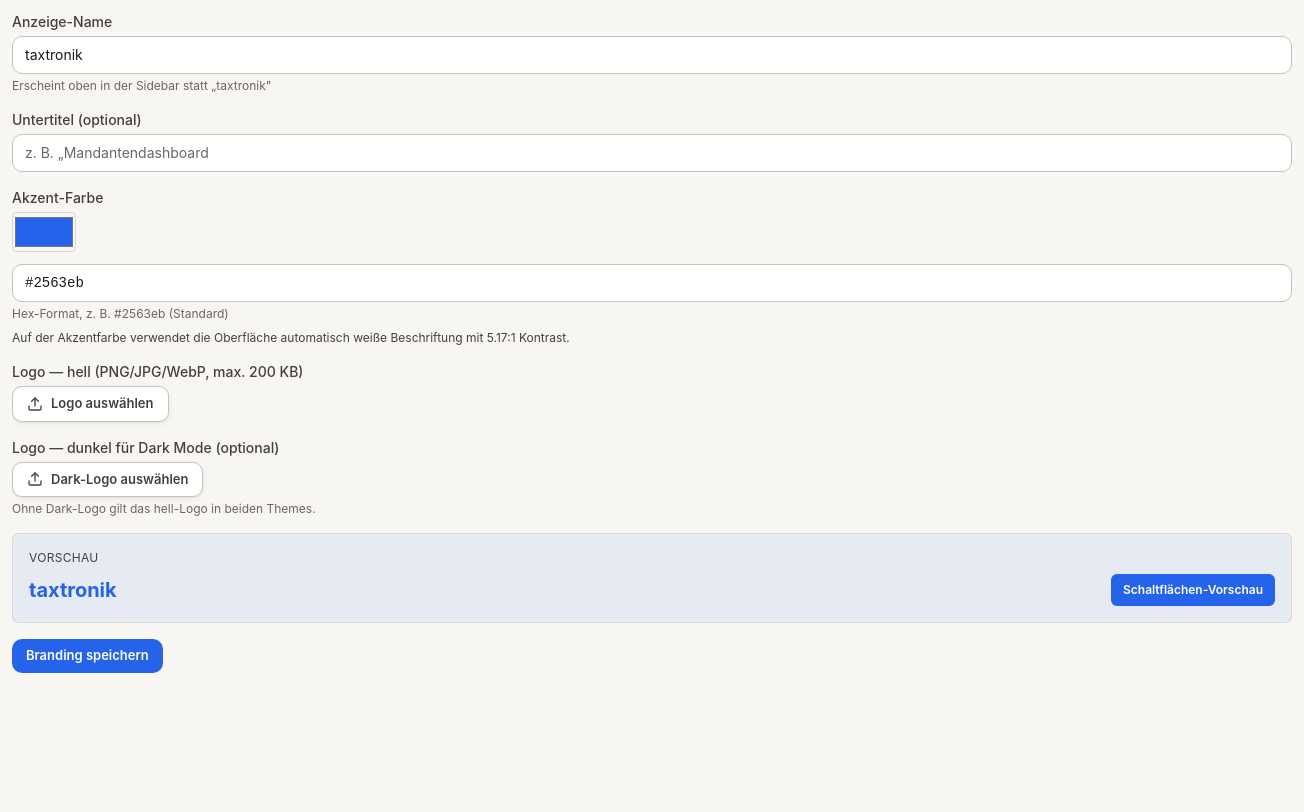
Barrierefreiheit der Branding-Einstellungen › beschriftet beide Farbeingaben und erläutert die automatische Kontrastwahl
Expected: the message shows "automatisch weiße Beschriftung", [12, 330, 570, 345]
Replace the text in the field named "Akzent-Farbe als Hex-Wert" with "#ffd7" at (652, 283), box [12, 264, 1292, 302]
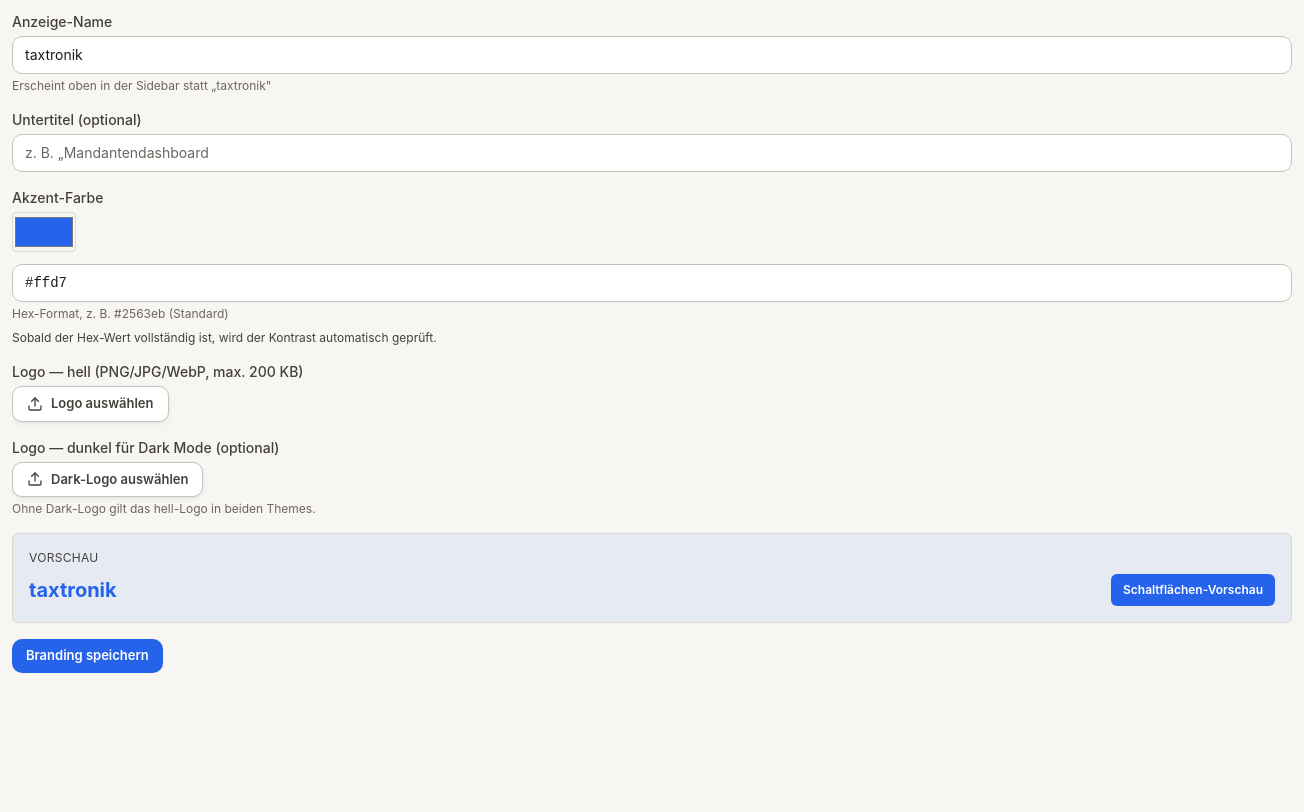
Expected: the message reads "Sobald der Hex-Wert vollständig ist, wird der Kontrast automatisch geprüft.", [12, 330, 437, 345]
Replace the text in the field named "Akzent-Farbe als Hex-Wert" with "#ffd700" at (652, 283), box [12, 264, 1292, 302]
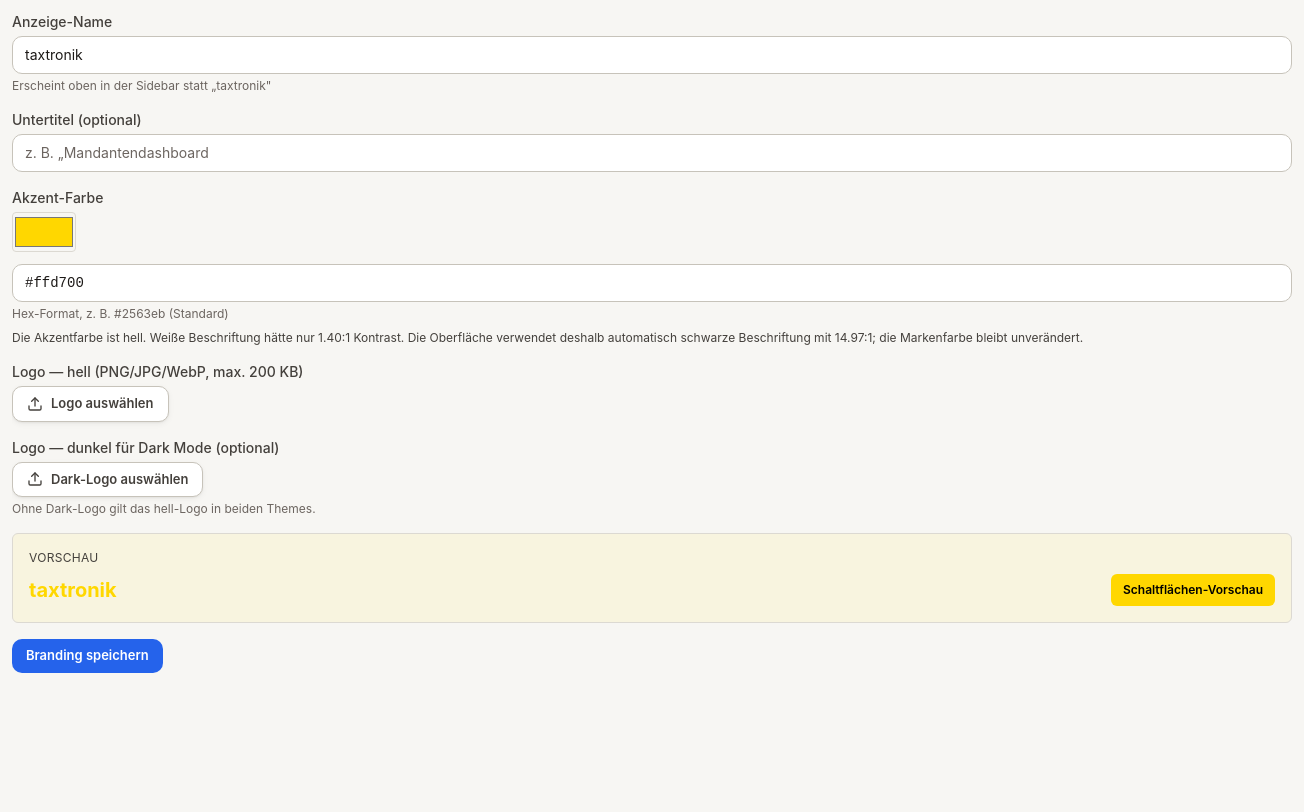
Expected: the message shows "automatisch schwarze Beschriftung", [12, 330, 1083, 345]
Expected: the message shows "die Markenfarbe bleibt unverändert", [12, 330, 1083, 345]
